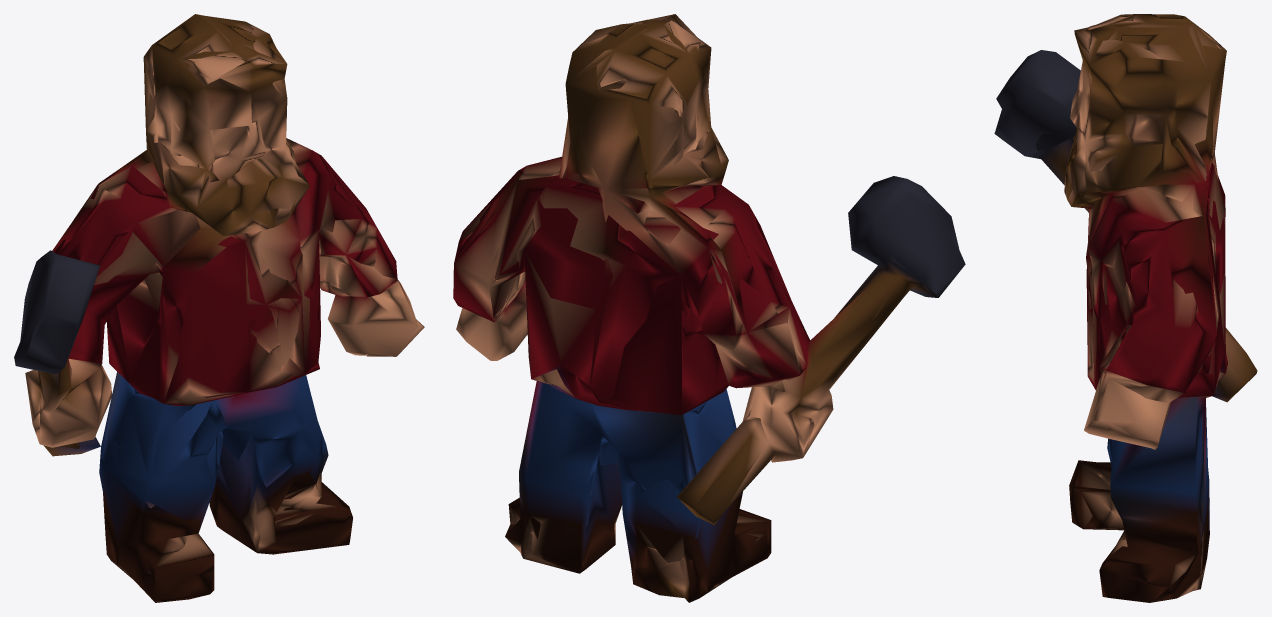
File: gen3d-lumberjack-lod0.glb
3 renders of one model, left to right at view 1: azimuth 30°, elevation 25°; view 2: azimuth 150°, elevation 25°; view 3: azimuth 270°, elevation 25°, orthographic.
Visible parts, largest first — view 1: part_0; view 2: part_0; view 3: part_0.
Boxes of the visible parts, <box> form: part_0: <box>14,14,424,602</box>; part_0: <box>453,14,965,602</box>; part_0: <box>994,14,1257,602</box>.
Size of the model in its own units: 0.8636 by 0.9955 by 0.4526.
